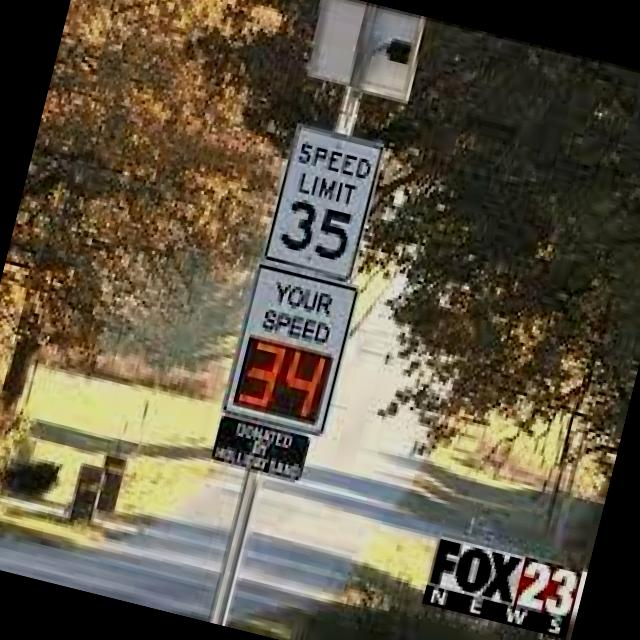Speed Limit Signs: (262, 120, 386, 288)
